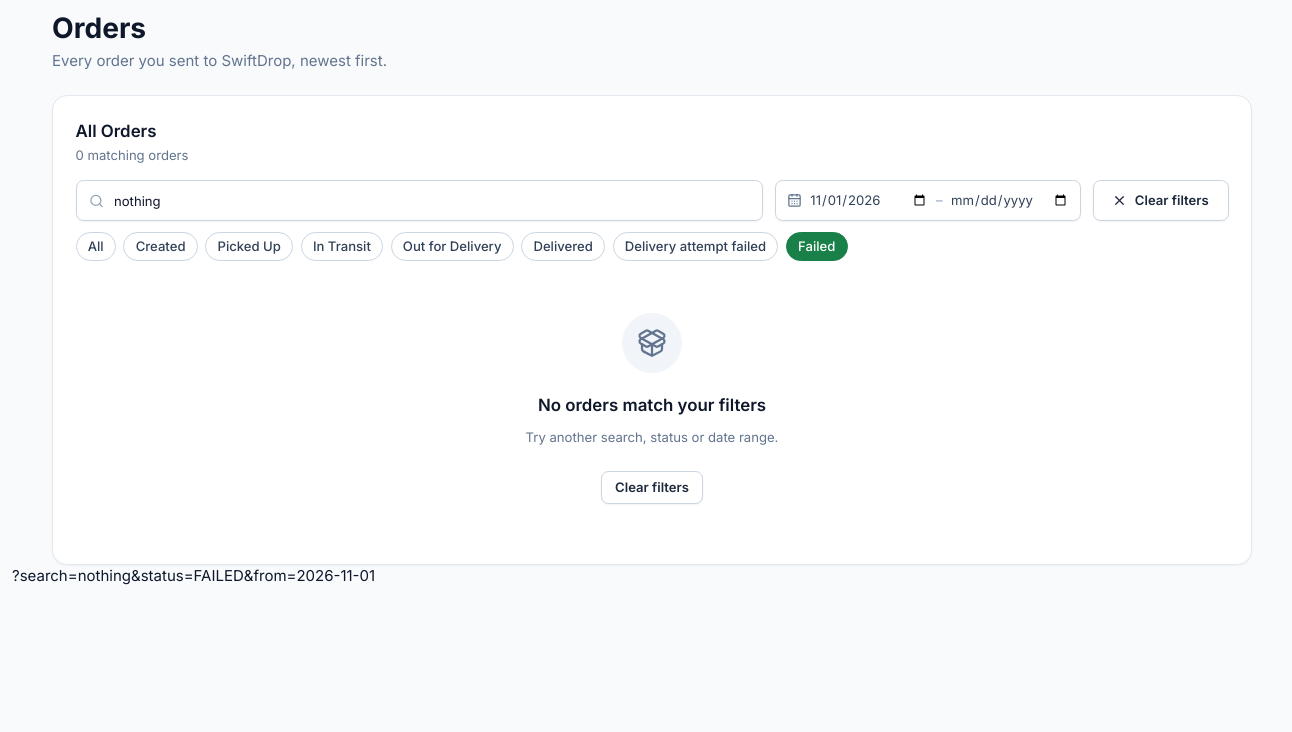
Test: filters › says when no order matches, and clears every filter
The image size is (1292, 732).
Check: the heading "No orders match your filters" is shown, box [538,392,766,418]
Click the button "Clear filters" below "No orders match your filters": (652, 488) [601,471,703,504]
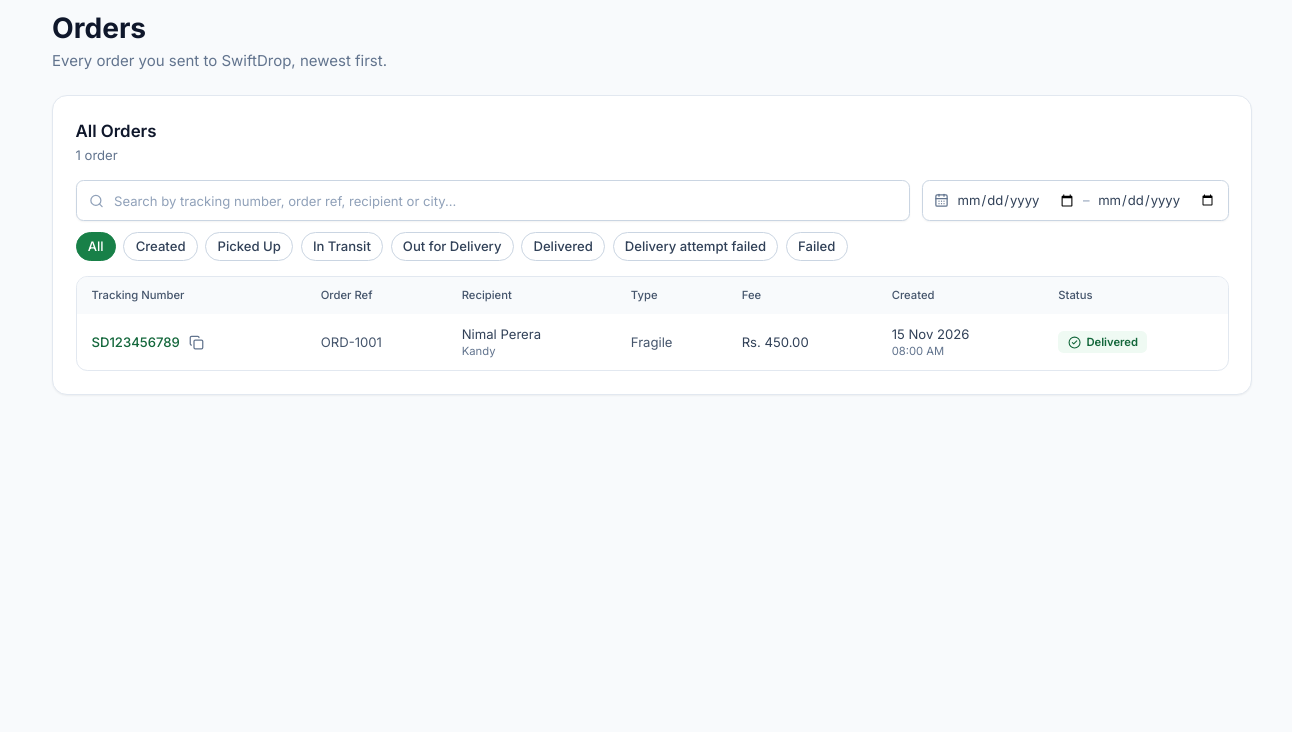
Check: the link "SD123456789" is shown, box [92,333,180,352]
Check: the search field named "Search orders" is empty, box [76,180,910,221]
